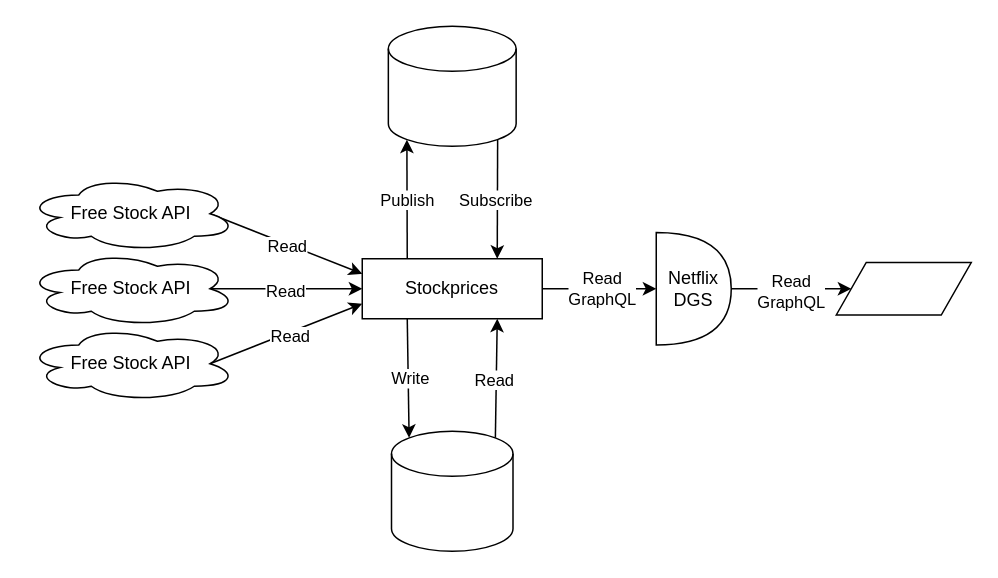
Image size: 998x578. Some labels were removed from this diagram. The box of each missing label's shape, as (x1, y1, x2, y2) in pixels:
Client: (835, 261, 971, 315)
InfluxDB: (390, 430, 513, 551)
Redis: (387, 25, 516, 146)
